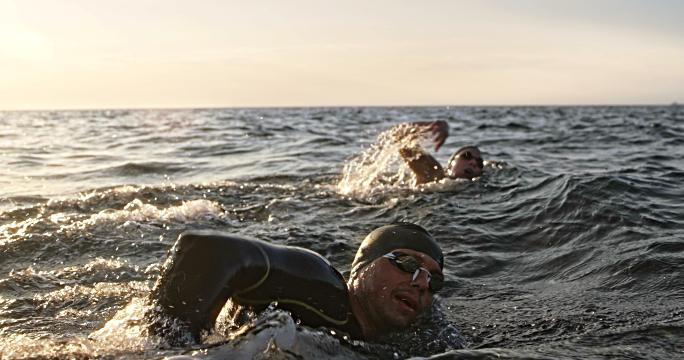human: (138, 218, 444, 349), (389, 118, 484, 191)
